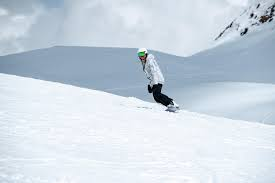snowboard: (166, 103, 180, 113)
